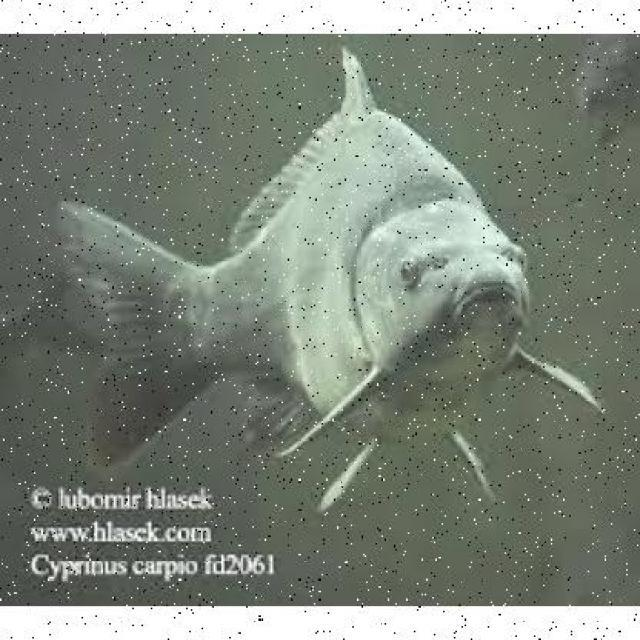ikan-mas: (76, 52, 542, 490)
